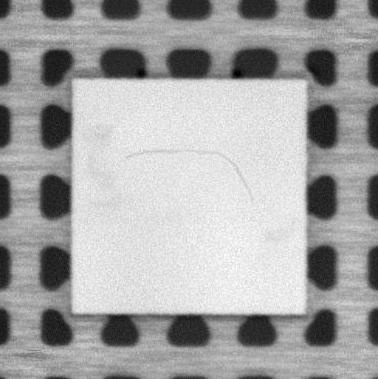DIE_CRACK: (128, 146, 255, 202)
